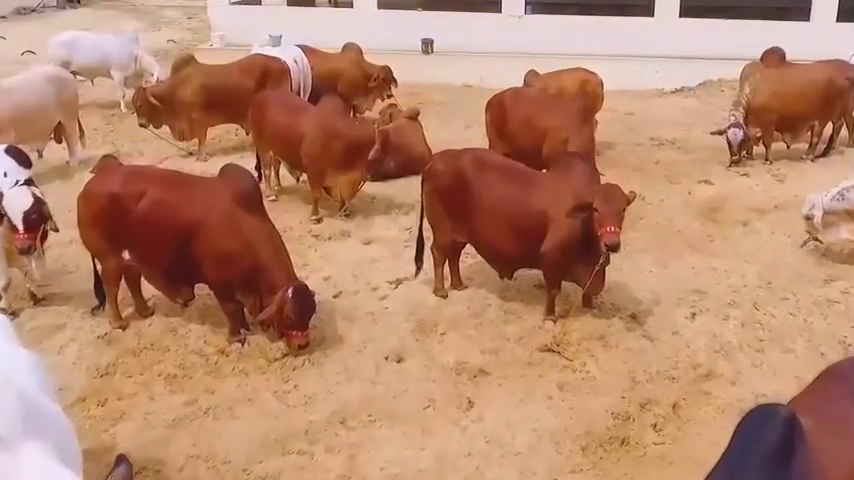bo: (73, 152, 325, 360), (410, 140, 630, 326), (694, 322, 854, 480), (4, 305, 144, 480), (244, 89, 402, 227), (120, 44, 302, 158), (709, 45, 845, 171), (37, 23, 176, 122), (475, 77, 604, 179), (2, 139, 67, 333), (1, 58, 94, 179), (295, 35, 408, 106), (514, 59, 616, 124), (247, 25, 320, 115), (791, 165, 851, 265), (360, 99, 440, 174)
